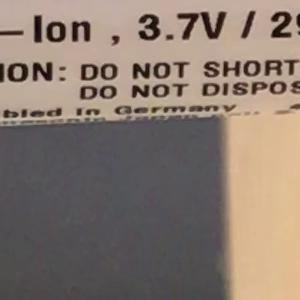3.7V: (128, 1, 235, 51)
